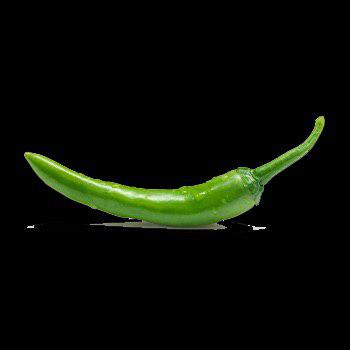lada hijau: (19, 130, 272, 236)
